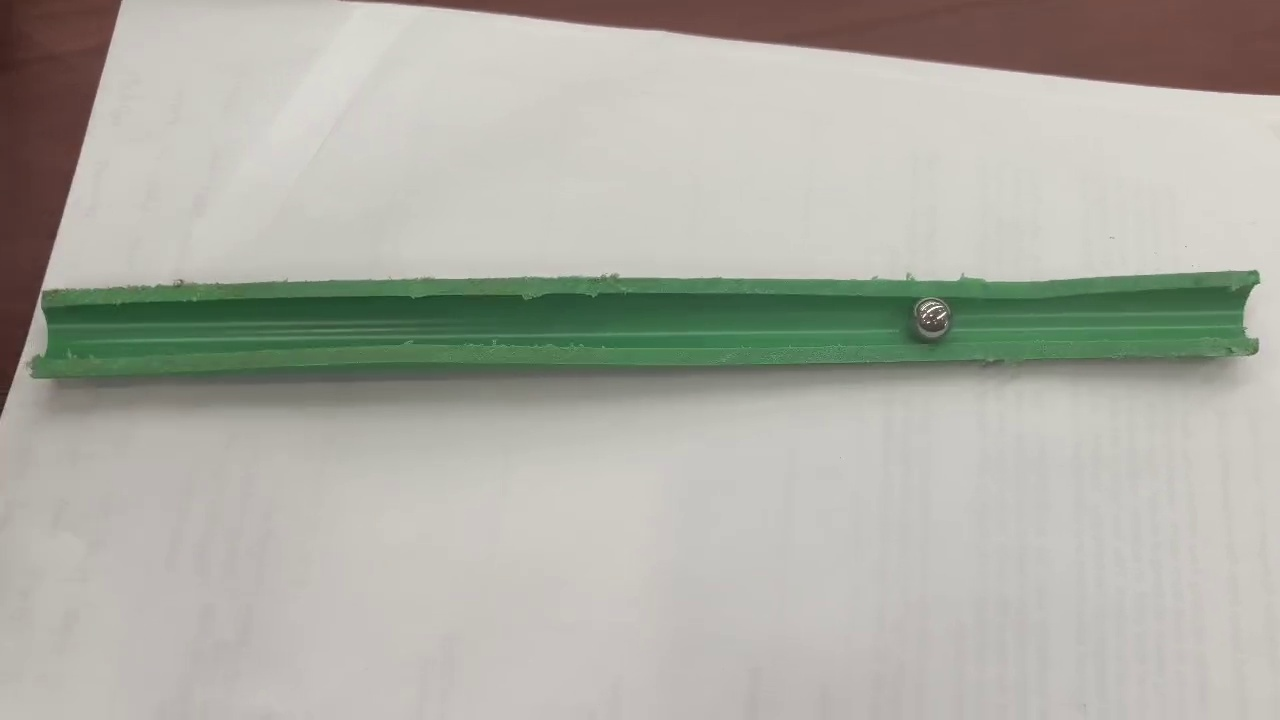ball: (915, 299, 950, 339)
